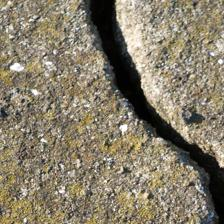Crack: (38, 2, 186, 220)
